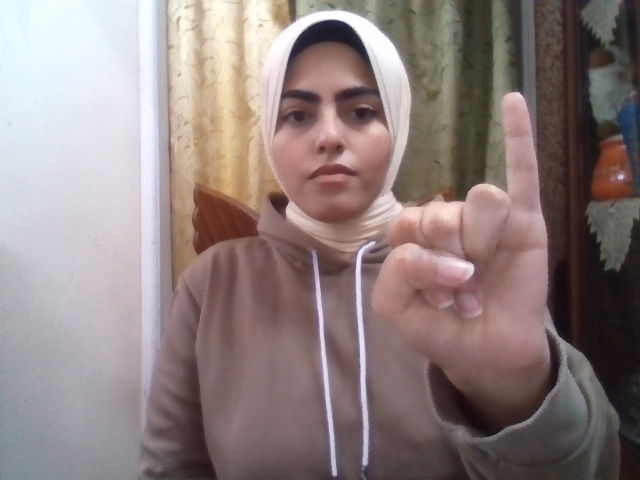I: (371, 92, 549, 385)
